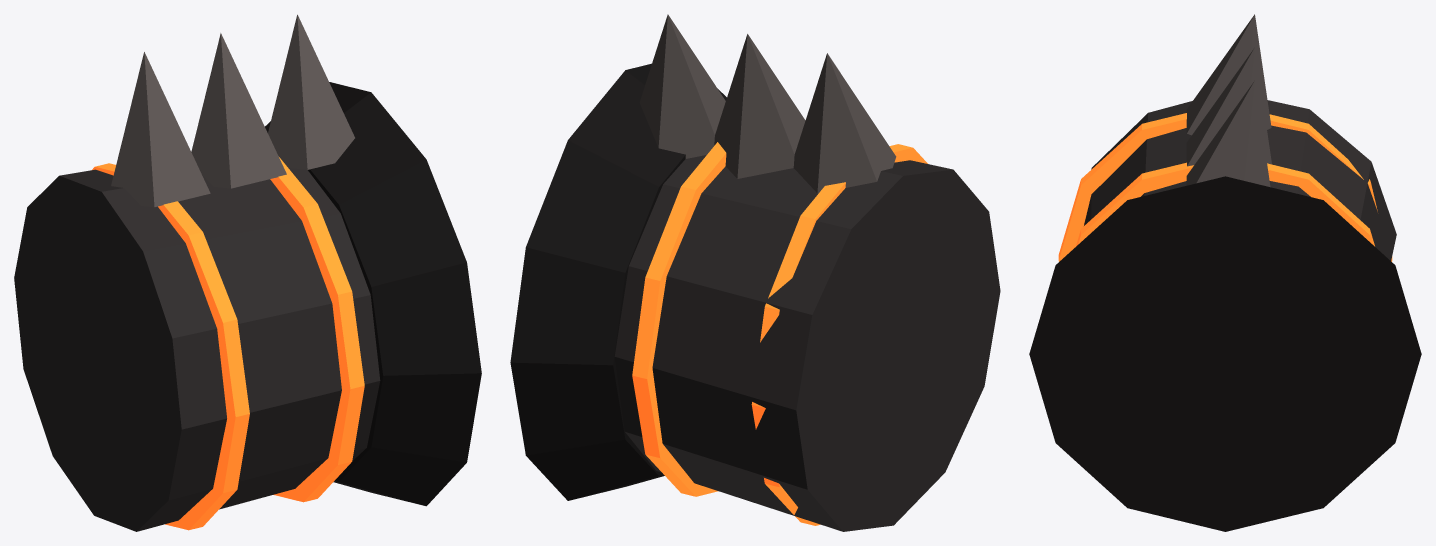
File: hearth_guard_bracer_l.glb
3 renders of one model, left to right at view 1: azimuth 30°, elevation 25°; view 2: azimuth 150°, elevation 25°; view 3: azimuth 270°, elevation 25°, orthographic. The views are drawn at different scales.
Parts seen in each view (by area): view 1: hearth_guard_bracer_l; view 2: hearth_guard_bracer_l; view 3: hearth_guard_bracer_l.
Part boxes in pixels (x1,y1,x2,y2): hearth_guard_bracer_l: [14, 14, 481, 531]; hearth_guard_bracer_l: [510, 14, 1000, 531]; hearth_guard_bracer_l: [1029, 14, 1421, 531].
Bounding box in the file's own units: 0.2875 × 0.48 × 0.4.
